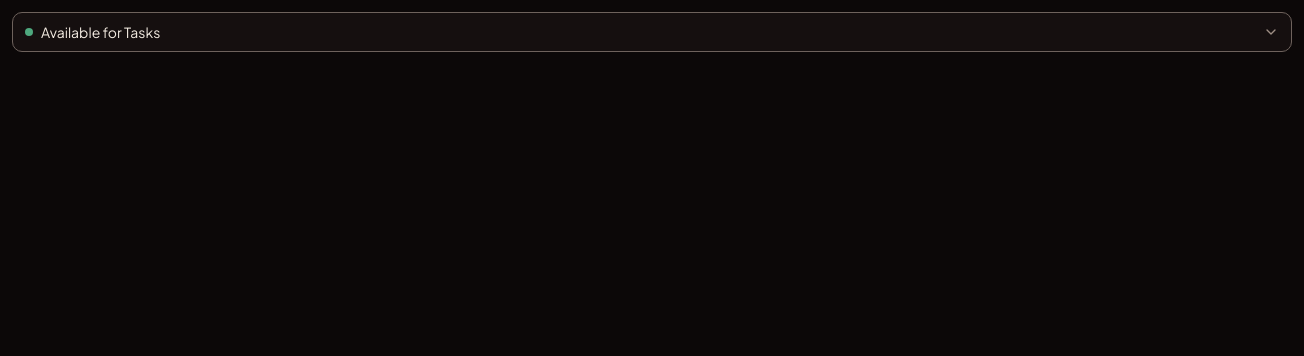
Test: Select Component › opens popover on click and lists all options
Click the dropdown. click: x=101, y=32
box: [12, 12, 1292, 52]
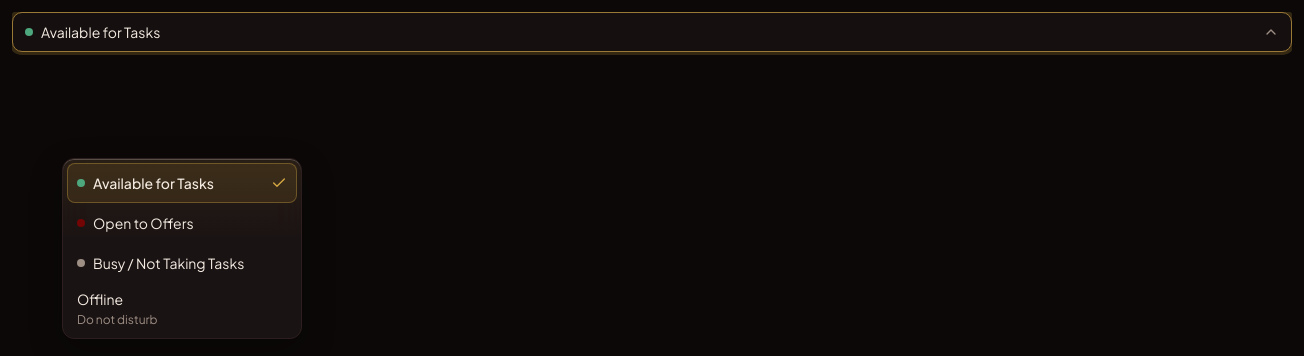
Result: the dropdown is expanded at [12, 12, 1292, 52]
Result: the list is shown at [62, 158, 302, 339]
Result: the number of options is 4 at [77, 174, 287, 192]; [77, 214, 194, 232]; [77, 254, 244, 272]; [77, 290, 158, 327]
